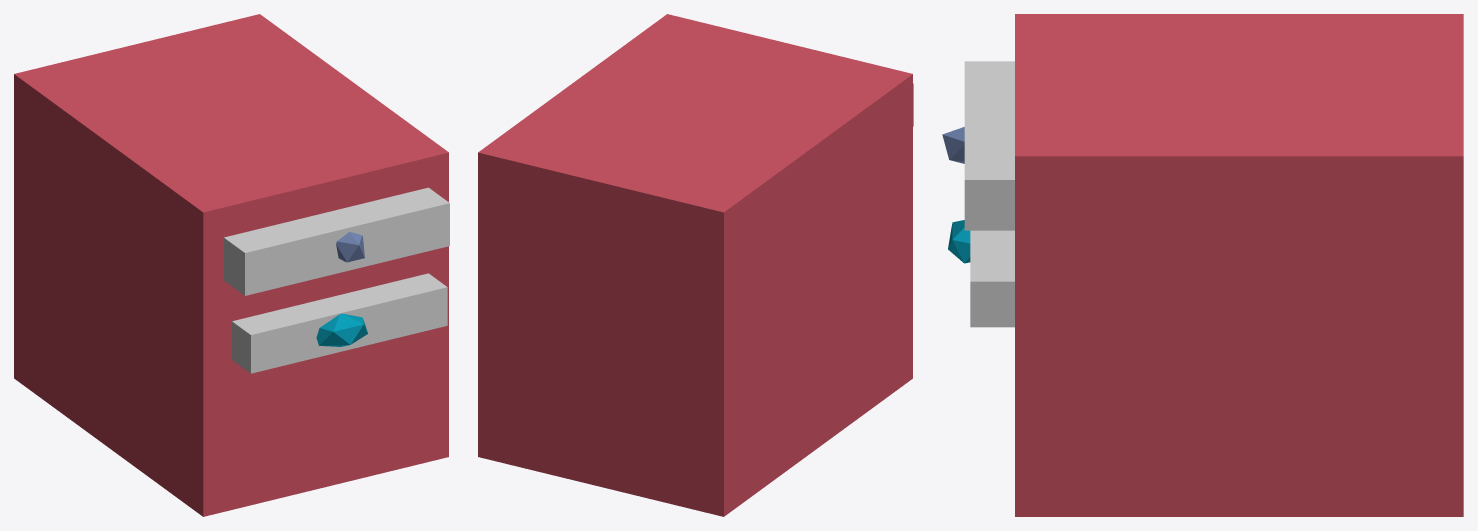
The model's file is c 149 project.glb.
The picture shows the model from 3 angles, left to right: view 1: azimuth 30°, elevation 25°; view 2: azimuth 150°, elevation 25°; view 3: azimuth 270°, elevation 25°; orthographic projection. The views are drawn at different scales.
Visible parts, largest first — view 1: Mesh_Mesh_head_geo.001_lambert2SG.001; view 2: Mesh_Mesh_head_geo.001_lambert2SG.001; view 3: Mesh_Mesh_head_geo.001_lambert2SG.001.
Part boxes in pixels (bbox=[...]): Mesh_Mesh_head_geo.001_lambert2SG.001: bbox=[14, 14, 449, 516]; Mesh_Mesh_head_geo.001_lambert2SG.001: bbox=[478, 14, 913, 516]; Mesh_Mesh_head_geo.001_lambert2SG.001: bbox=[942, 14, 1463, 516].
Size of the model in its own units: 60 by 71 by 93.
